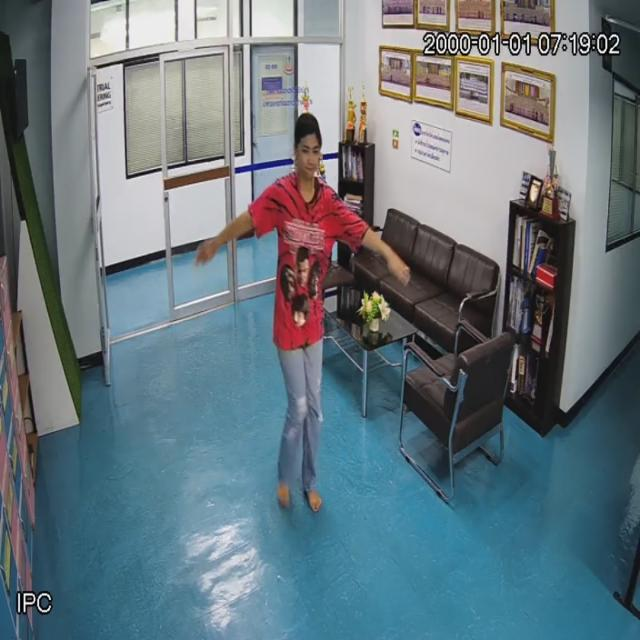normal: (266, 112, 340, 516)
